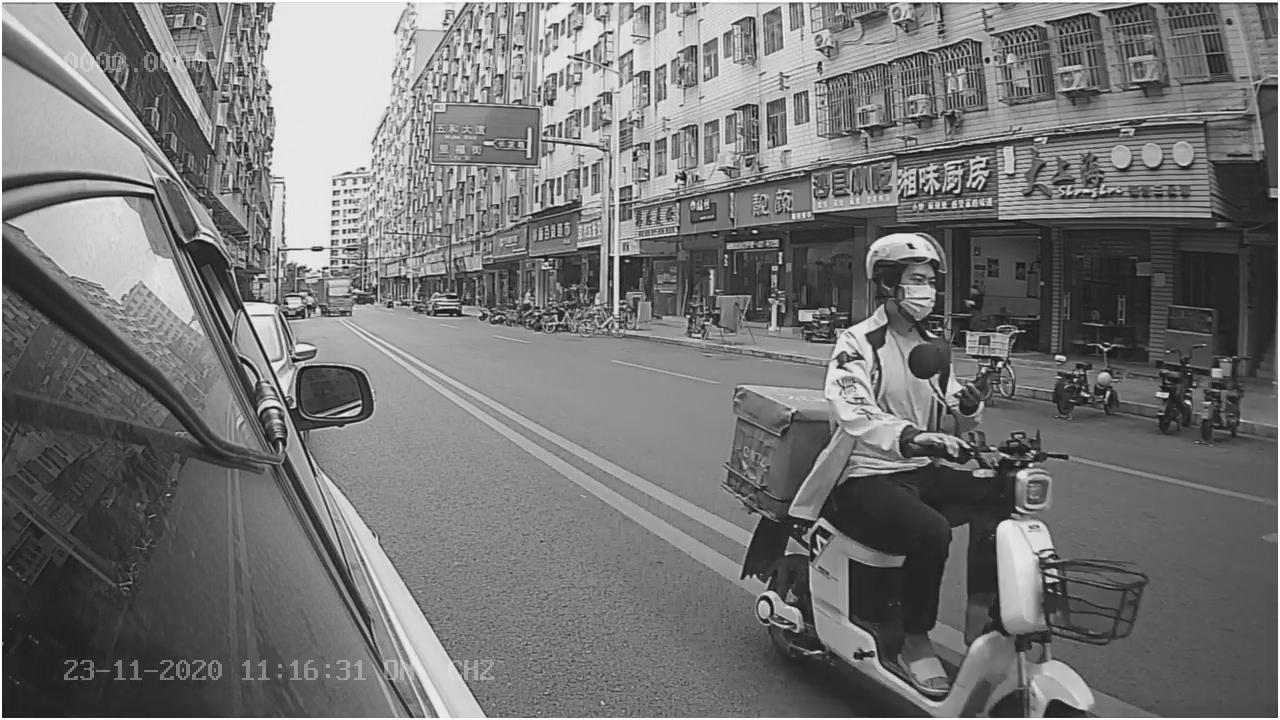person: (815, 226, 997, 454)
